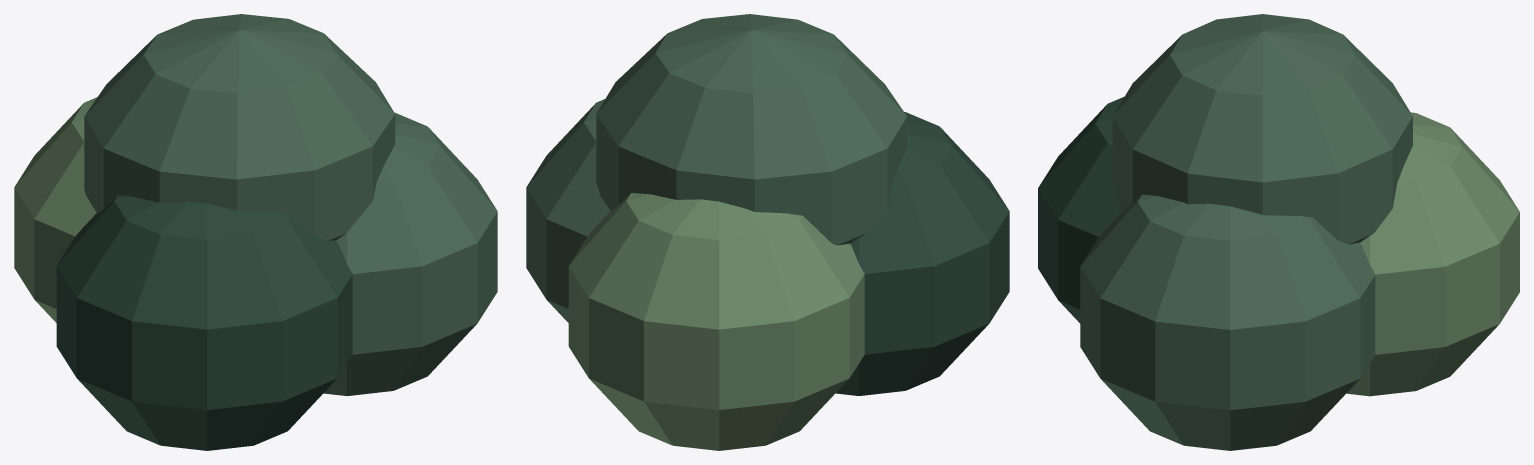
File: low.shrub.b.glb
The picture shows the model from 3 angles, left to right: view 1: azimuth 30°, elevation 25°; view 2: azimuth 150°, elevation 25°; view 3: azimuth 270°, elevation 25°; orthographic projection.
Size of the model in its own units: 0.7077 by 0.58 by 0.7022.
